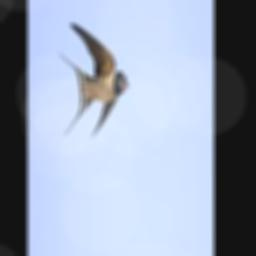Swallow: (58, 22, 129, 137)
